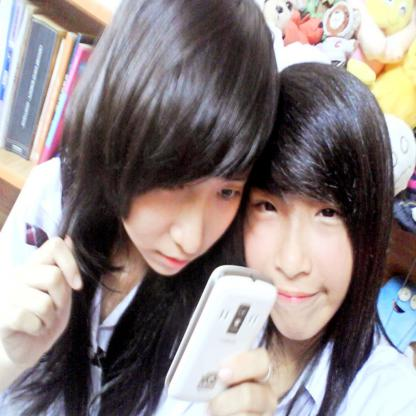book: (0, 0, 99, 167)
